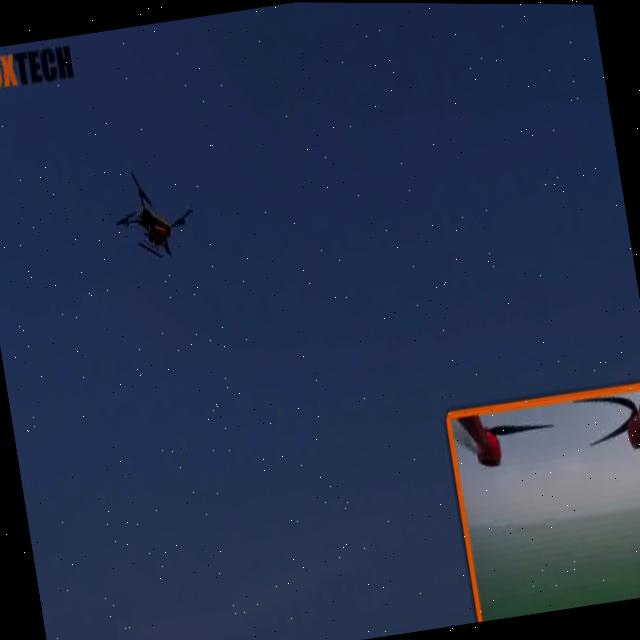drone: (100, 148, 208, 275)
